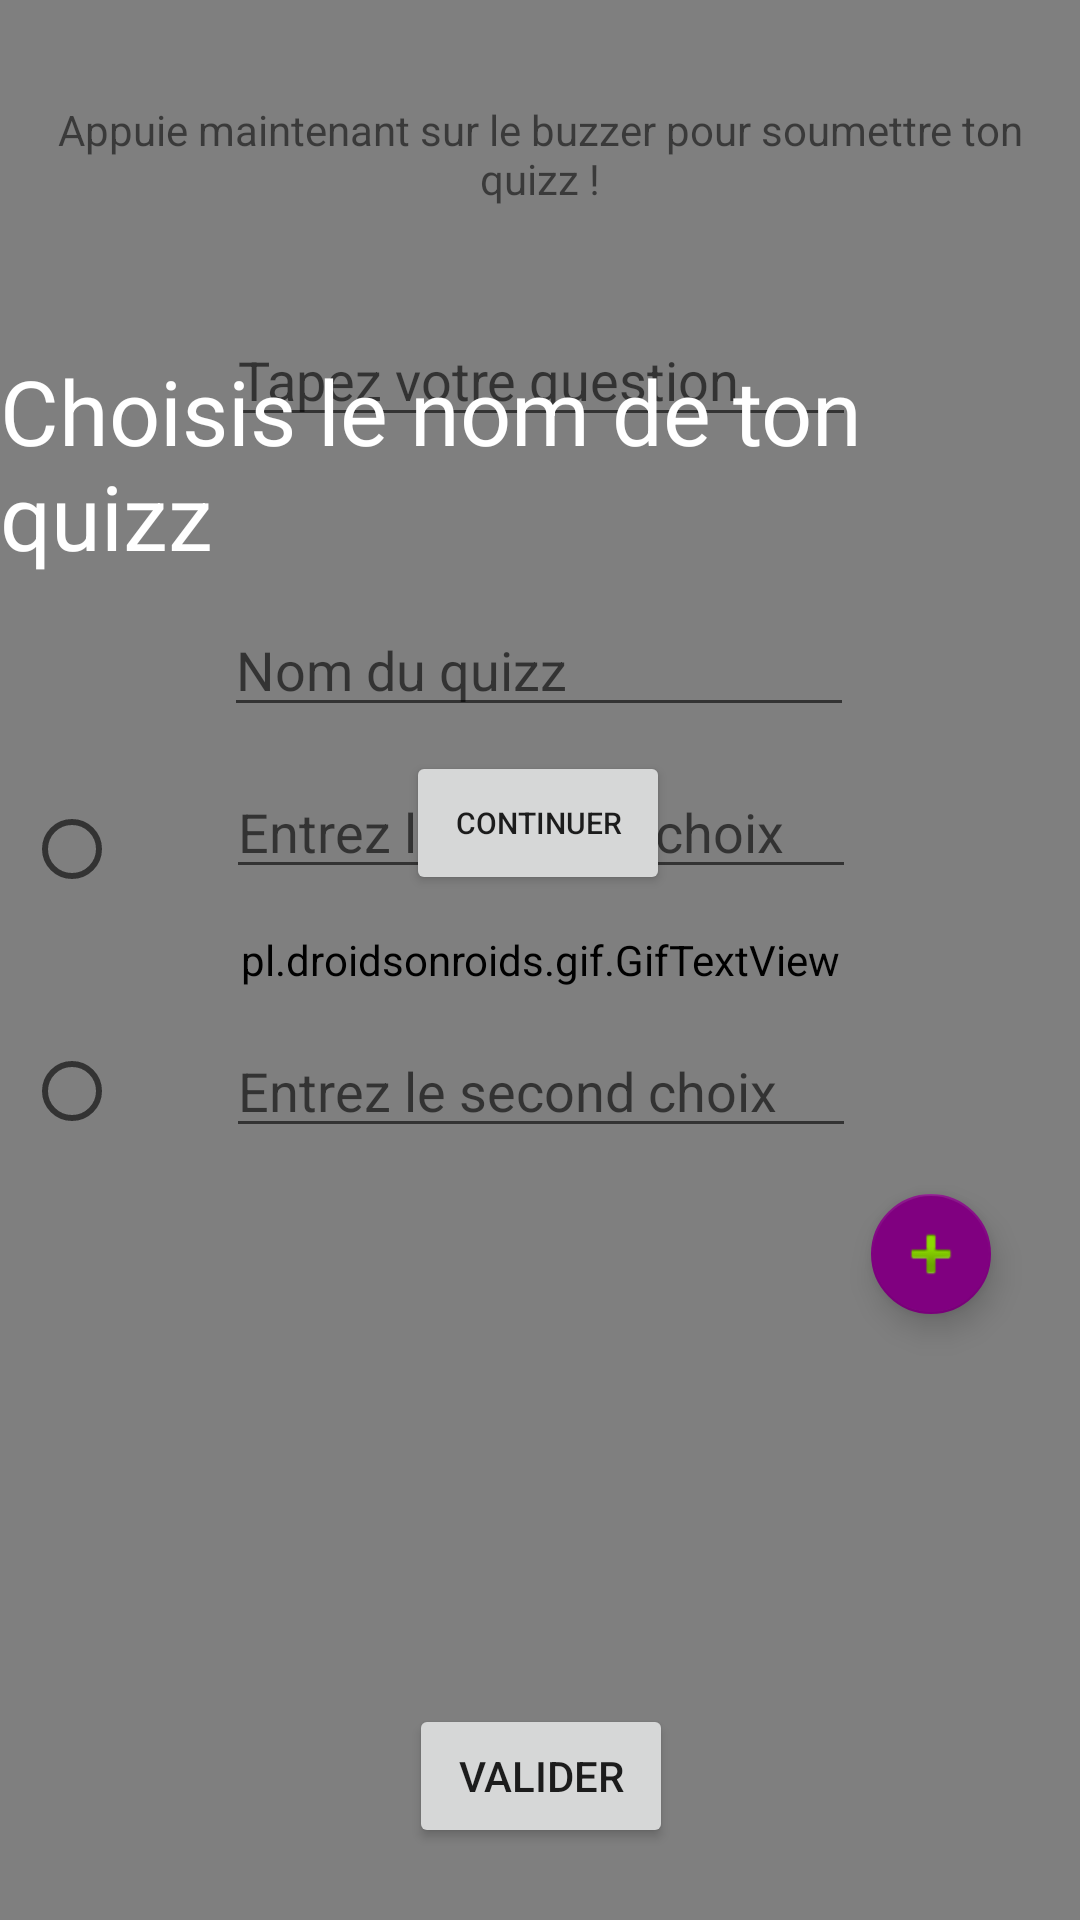

Point at icon controls on the screen. Image size 1080x1920, points as point (x, y).
add: point (931, 1254)
